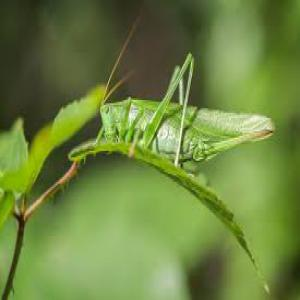locust: (94, 54, 285, 187)
